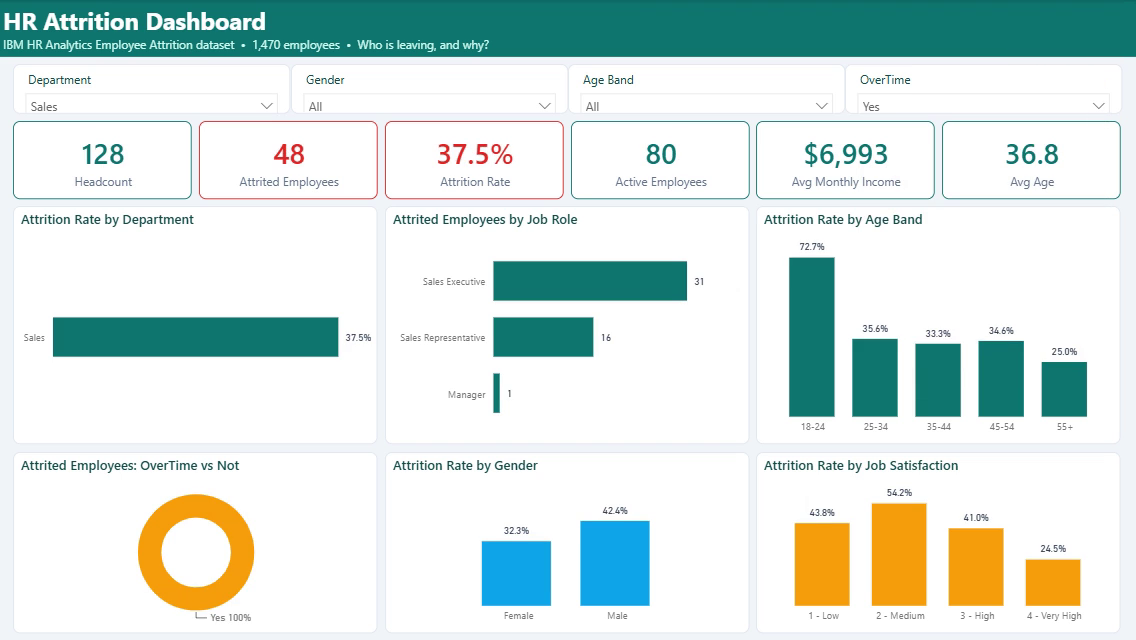

This screenshot's page, from the dashboard's own definition file:
{"tool":"powerbi","page":{"name":"Overview","canvas":[1280,720],"ordinal":0},"visuals":[{"type":"textbox","box":[0,0,1280,64],"z":1000},{"type":"slicer","title":"Department","fields":{"Values":["HR.Department"]},"box":[16,72,312,56],"z":2000},{"type":"slicer","title":"Gender","fields":{"Values":["HR.Gender"]},"box":[328,72,312,56],"z":3000},{"type":"slicer","title":"Age Band","fields":{"Values":["HR.Age Band"]},"box":[640,72,312,56],"z":4000},{"type":"slicer","title":"OverTime","fields":{"Values":["HR.OverTime"]},"box":[952,72,312,56],"z":5000},{"type":"card","title":"Headcount","fields":{"Values":["HR.Total Employees"]},"box":[16,136,201,88],"z":6000},{"type":"card","title":"Attrited Employees","fields":{"Values":["HR.Attrited Employees"]},"box":[225,136,201,88],"z":7000},{"type":"card","title":"Attrition Rate","fields":{"Values":["HR.Attrition Rate %"]},"box":[434,136,201,88],"z":8000},{"type":"card","title":"Active Employees","fields":{"Values":["HR.Active Employees"]},"box":[643,136,201,88],"z":9000},{"type":"card","title":"Avg Monthly Income","fields":{"Values":["HR.Avg Monthly Income"]},"box":[852,136,201,88],"z":10000},{"type":"card","title":"Avg Age","fields":{"Values":["HR.Avg Age"]},"box":[1061,136,201,88],"z":11000},{"type":"clusteredBarChart","title":"Attrition Rate by Department","fields":{"Category":["HR.Department"],"Y":["HR.Attrition Rate %"]},"box":[16,232,410,268],"z":12000},{"type":"clusteredBarChart","title":"Attrited Employees by Job Role","fields":{"Category":["HR.JobRole"],"Y":["HR.Attrited Employees"]},"box":[434,232,410,268],"z":13000},{"type":"clusteredColumnChart","title":"Attrition Rate by Age Band","fields":{"Category":["HR.Age Band"],"Y":["HR.Attrition Rate %"]},"box":[852,232,410,268],"z":14000},{"type":"donutChart","title":"Attrited Employees: OverTime vs Not","fields":{"Category":["HR.OverTime"],"Y":["HR.Attrited Employees"]},"box":[16,508,410,204],"z":15000},{"type":"clusteredColumnChart","title":"Attrition Rate by Gender","fields":{"Category":["HR.Gender"],"Y":["HR.Attrition Rate %"]},"box":[434,508,410,204],"z":16000},{"type":"clusteredColumnChart","title":"Attrition Rate by Job Satisfaction","fields":{"Category":["HR.Job Satisfaction Level"],"Y":["HR.Attrition Rate %"]},"box":[852,508,410,204],"z":17000}]}

Visuals, with their boxes in screenshot pixels (x1, y1, x2, y2), scaled from the page's 1280x720 canvas onto the 1136x640 screenshot:
textbox: Rect(0, 0, 1135, 57)
"Department" slicer: Rect(14, 64, 291, 114)
"Gender" slicer: Rect(291, 64, 568, 114)
"Age Band" slicer: Rect(568, 64, 845, 114)
"OverTime" slicer: Rect(845, 64, 1122, 114)
"Headcount" card: Rect(14, 121, 193, 199)
"Attrited Employees" card: Rect(200, 121, 378, 199)
"Attrition Rate" card: Rect(385, 121, 564, 199)
"Active Employees" card: Rect(571, 121, 749, 199)
"Avg Monthly Income" card: Rect(756, 121, 935, 199)
"Avg Age" card: Rect(942, 121, 1120, 199)
"Attrition Rate by Department" clusteredBarChart: Rect(14, 206, 378, 444)
"Attrited Employees by Job Role" clusteredBarChart: Rect(385, 206, 749, 444)
"Attrition Rate by Age Band" clusteredColumnChart: Rect(756, 206, 1120, 444)
"Attrited Employees: OverTime vs Not" donutChart: Rect(14, 452, 378, 633)
"Attrition Rate by Gender" clusteredColumnChart: Rect(385, 452, 749, 633)
"Attrition Rate by Job Satisfaction" clusteredColumnChart: Rect(756, 452, 1120, 633)
